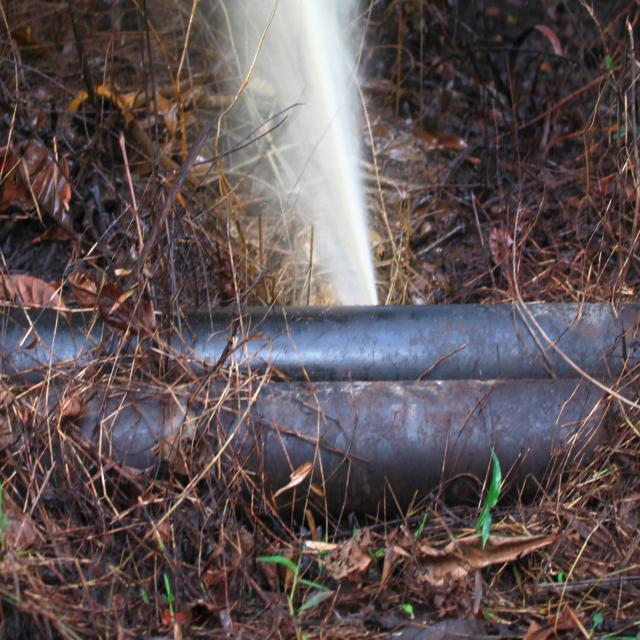leak: (201, 0, 378, 305)
